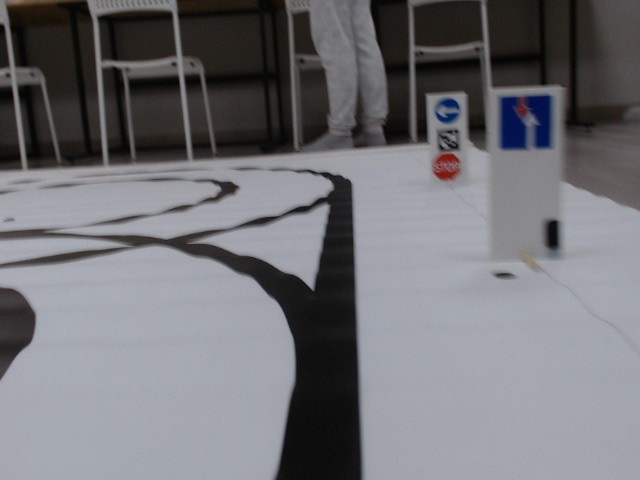Stop: (433, 154, 464, 182)
priority_movement: (498, 94, 553, 154)
